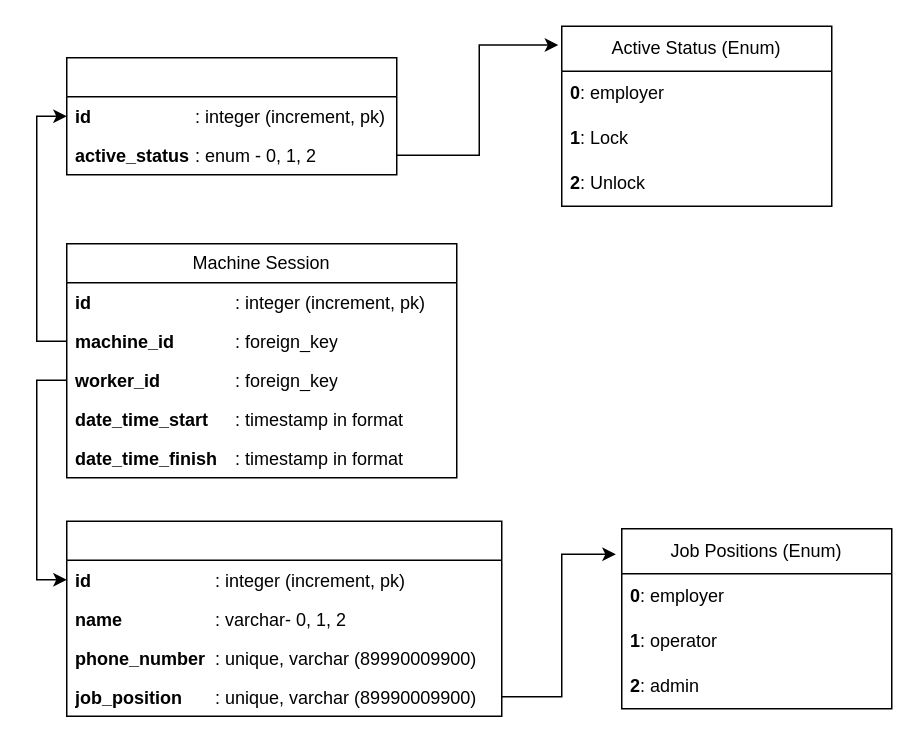
This 918x747 diagram has some shape labels left out. Each missing label, with the box of its shape:
Machine: (65, 56, 397, 175)
Worker: (65, 520, 502, 716)
